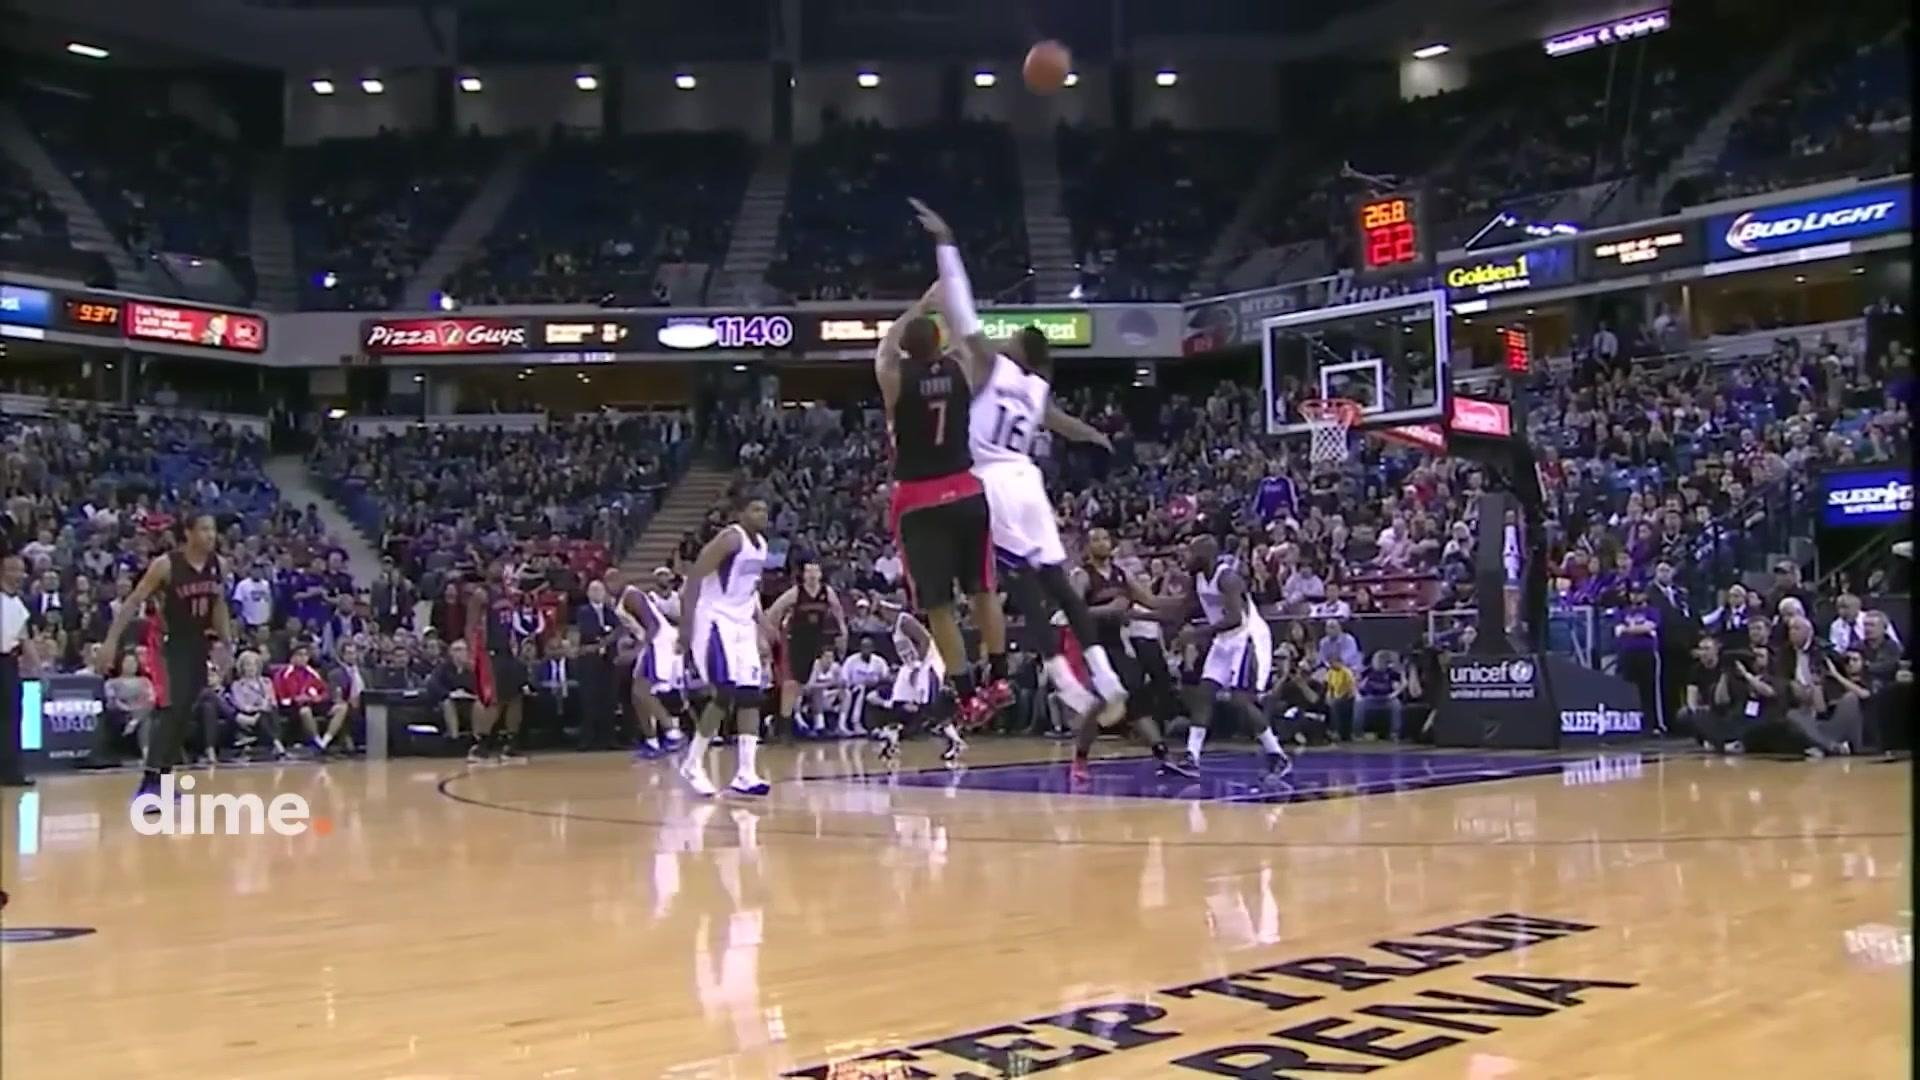foul: (876, 305, 1116, 732)
